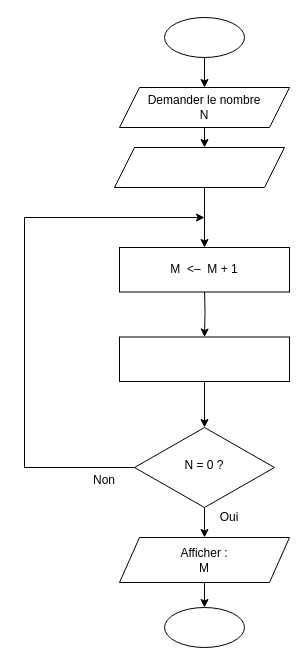
The diagram is 307 pixels wide and 665 high, and some of its shapes have lost their labels. Each missing label, with the centre of its shape:
"Demander le nombre M" goes at pixel 199 167.
"N <– N – 1" goes at pixel 204 359.
